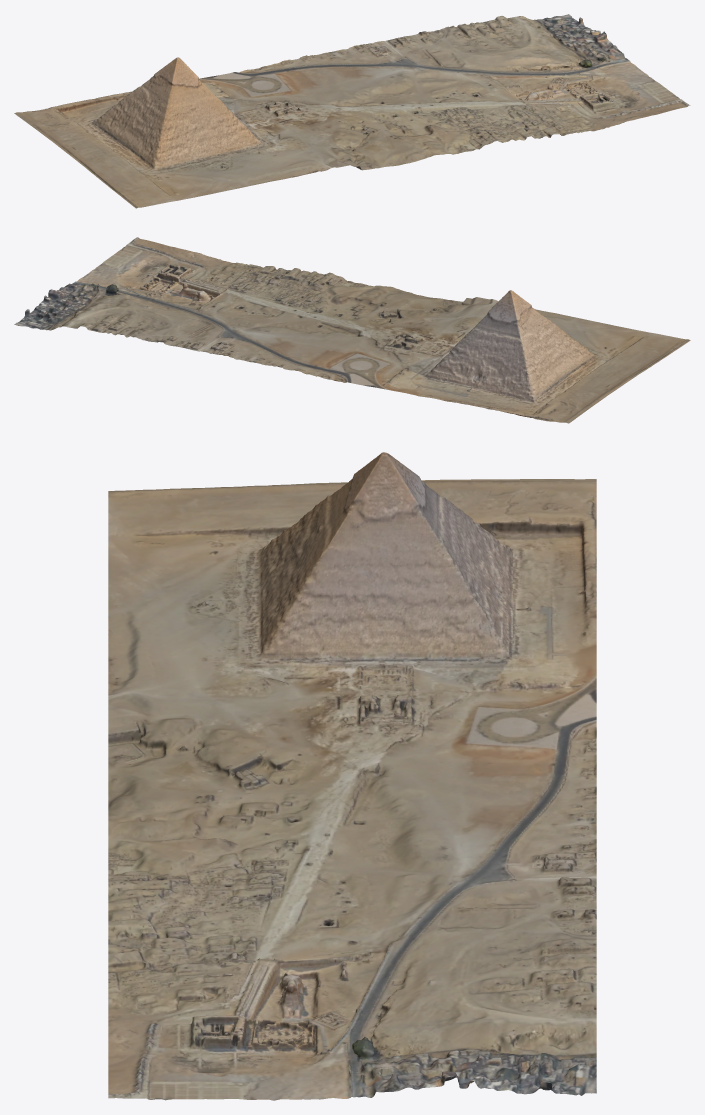
3 renders of one model, top to bottom at view 1: azimuth 30°, elevation 25°; view 2: azimuth 150°, elevation 25°; view 3: azimuth 270°, elevation 25°, orthographic. The views are drawn at different scales.
Parts seen in each view (by area): view 1: EGY_001_M6_KheopsSphynx; view 2: EGY_001_M6_KheopsSphynx; view 3: EGY_001_M6_KheopsSphynx.
Boxes of the visible parts, <box> form: EGY_001_M6_KheopsSphynx: <box>14,14,690,208</box>; EGY_001_M6_KheopsSphynx: <box>14,237,690,423</box>; EGY_001_M6_KheopsSphynx: <box>108,452,596,1100</box>.
Size of the model in its own units: 1068 by 202 by 407.
1 material, 1 textured.
